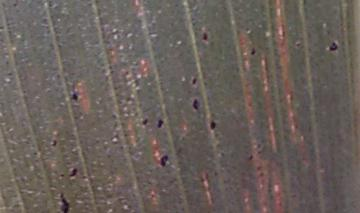tarspot: (57, 189, 73, 213), (325, 37, 341, 56), (190, 95, 202, 114), (200, 26, 210, 47), (158, 152, 170, 169), (208, 115, 218, 133), (68, 165, 79, 181), (189, 74, 200, 89), (69, 90, 80, 105), (140, 114, 150, 129), (49, 136, 59, 150), (249, 44, 258, 59), (156, 117, 166, 130), (245, 152, 255, 163), (294, 39, 302, 49), (58, 172, 66, 181)
